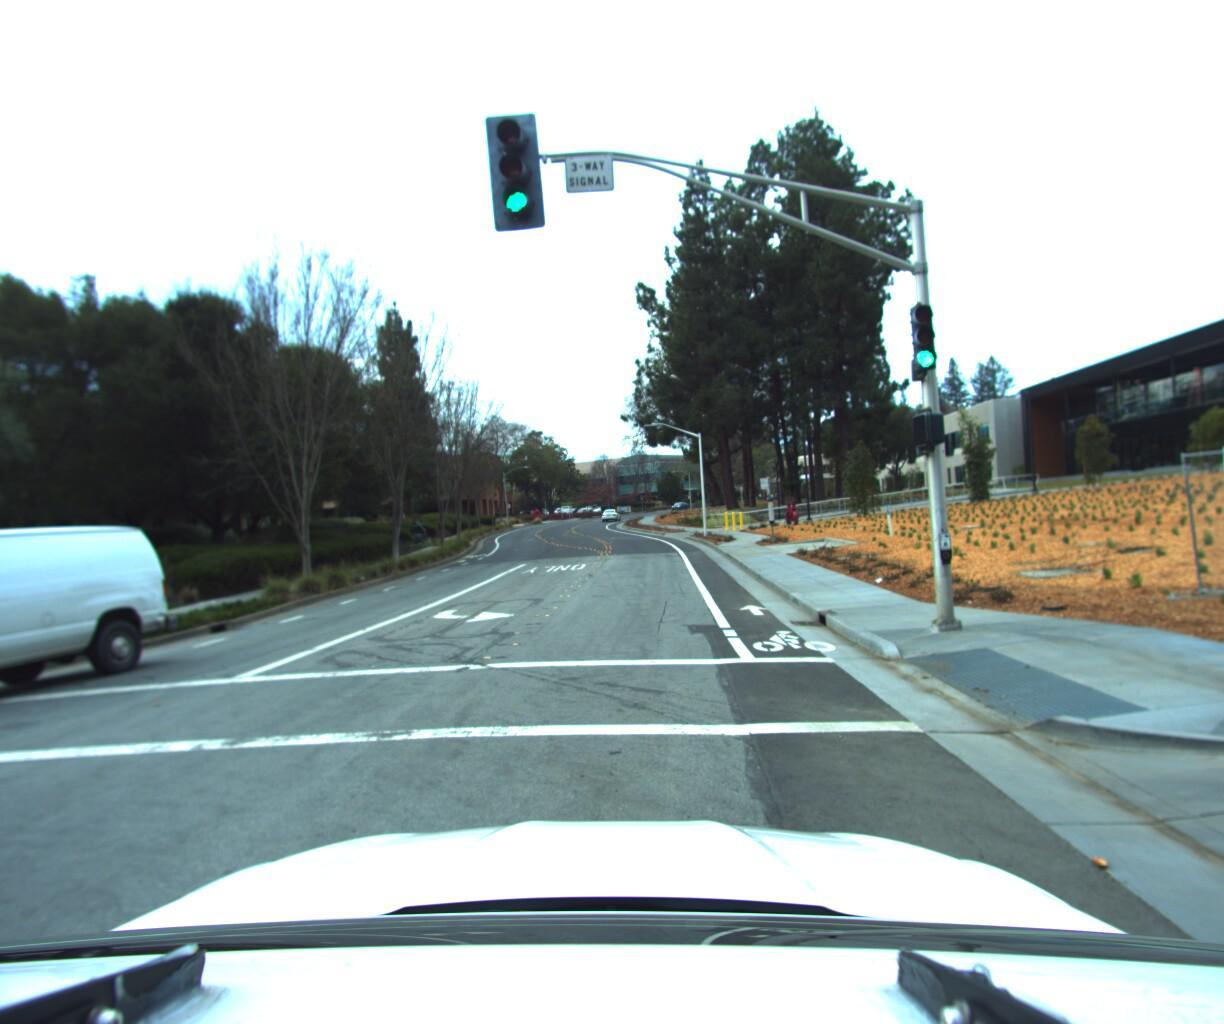car: (0, 523, 190, 788)
